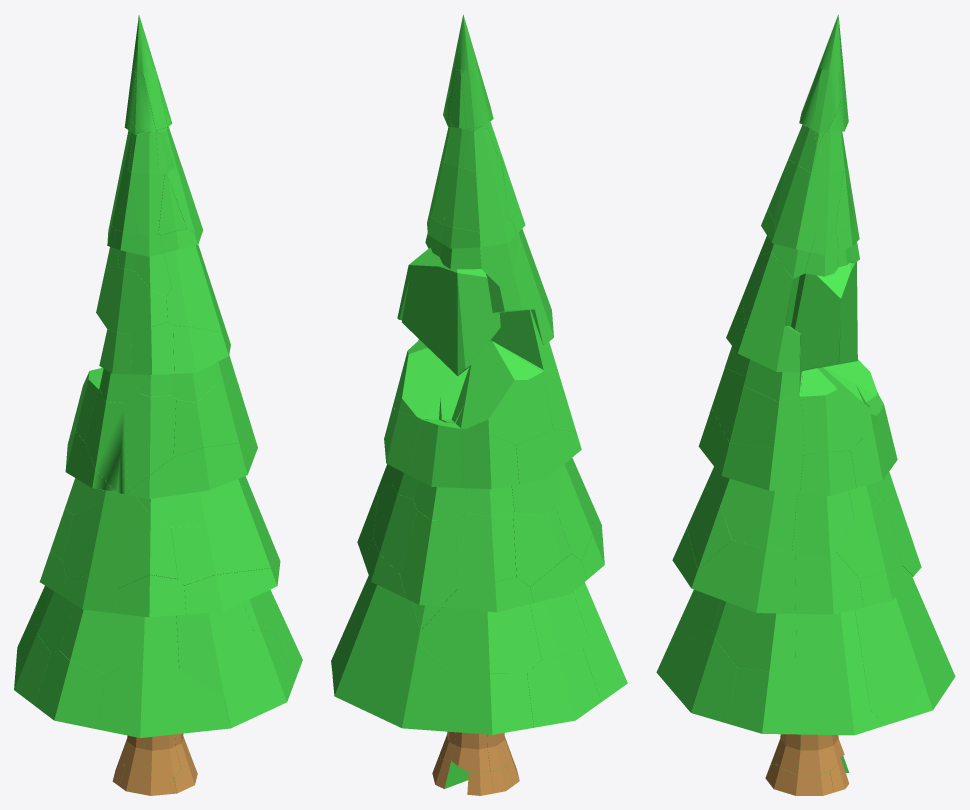
Rendered from yamukparcalı.fbx.
3 renders of one model, left to right at view 1: azimuth 30°, elevation 25°; view 2: azimuth 150°, elevation 25°; view 3: azimuth 270°, elevation 25°, orthographic. The views are drawn at different scales.
Parts seen in each view (by area): view 1: Cylinder_cell.057, Cylinder_cell.083, Cylinder_cell.100, Cylinder_cell.029, Cylinder_cell.089, Cylinder_cell.049, Cylinder_cell.001, Cylinder_cell.085, Cylinder_cell.053, Cylinder_cell.015, Cylinder_cell.086, Cylinder_cell.021 (+40 smaller); view 2: Cylinder_cell.111, Cylinder_cell.071, Cylinder_cell.079, Cylinder_cell.051, Cylinder_cell.080, Cylinder_cell.066, Cylinder_cell.107, Cylinder_cell.048, Cylinder_cell.091, Cylinder_cell.010, Cylinder_cell.033, Cylinder_cell.075 (+35 smaller); view 3: Cylinder_cell.090, Cylinder_cell.065, Cylinder_cell.025, Cylinder_cell.107, Cylinder_cell.111, Cylinder_cell.029, Cylinder_cell.010, Cylinder_cell.027, Cylinder_cell.061, Cylinder_cell.110, Cylinder_cell.099, Cylinder_cell.054 (+32 smaller).
Part boxes in pixels (bbox=[...]): Cylinder_cell.057: bbox=[97, 666, 230, 737]; Cylinder_cell.083: bbox=[171, 505, 270, 585]; Cylinder_cell.100: bbox=[176, 602, 252, 697]; Cylinder_cell.029: bbox=[225, 630, 294, 728]; Cylinder_cell.089: bbox=[110, 495, 177, 588]; Cylinder_cell.049: bbox=[126, 443, 247, 498]; Cylinder_cell.001: bbox=[124, 393, 175, 491]; Cylinder_cell.085: bbox=[34, 650, 106, 729]; Cylinder_cell.053: bbox=[62, 494, 126, 578]; Cylinder_cell.015: bbox=[59, 604, 130, 673]; Cylinder_cell.086: bbox=[96, 266, 167, 335]; Cylinder_cell.021: bbox=[173, 380, 239, 457]; Cylinder_cell.111: bbox=[397, 248, 500, 375]; Cylinder_cell.071: bbox=[333, 643, 450, 731]; Cylinder_cell.079: bbox=[451, 341, 552, 444]; Cylinder_cell.051: bbox=[418, 588, 541, 673]; Cylinder_cell.080: bbox=[447, 671, 533, 734]; Cylinder_cell.066: bbox=[400, 511, 457, 630]; Cylinder_cell.107: bbox=[332, 580, 419, 682]; Cylinder_cell.048: bbox=[527, 649, 601, 727]; Cylinder_cell.091: bbox=[456, 513, 516, 588]; Cylinder_cell.010: bbox=[394, 341, 469, 422]; Cylinder_cell.033: bbox=[513, 510, 571, 586]; Cylinder_cell.075: bbox=[460, 428, 518, 489]; Cylinder_cell.090: bbox=[691, 540, 796, 671]; Cylinder_cell.065: bbox=[795, 553, 870, 709]; Cylinder_cell.025: bbox=[726, 668, 884, 735]; Cylinder_cell.107: bbox=[855, 582, 924, 725]; Cylinder_cell.111: bbox=[791, 262, 857, 371]; Cylinder_cell.029: bbox=[656, 630, 737, 723]; Cylinder_cell.010: bbox=[801, 367, 877, 454]; Cylinder_cell.027: bbox=[720, 478, 797, 551]; Cylinder_cell.061: bbox=[730, 371, 805, 455]; Cylinder_cell.110: bbox=[792, 490, 853, 554]; Cylinder_cell.099: bbox=[837, 498, 902, 578]; Cylinder_cell.054: bbox=[742, 252, 799, 329].
Size of the model in its own units: 453 by 1312 by 466.
